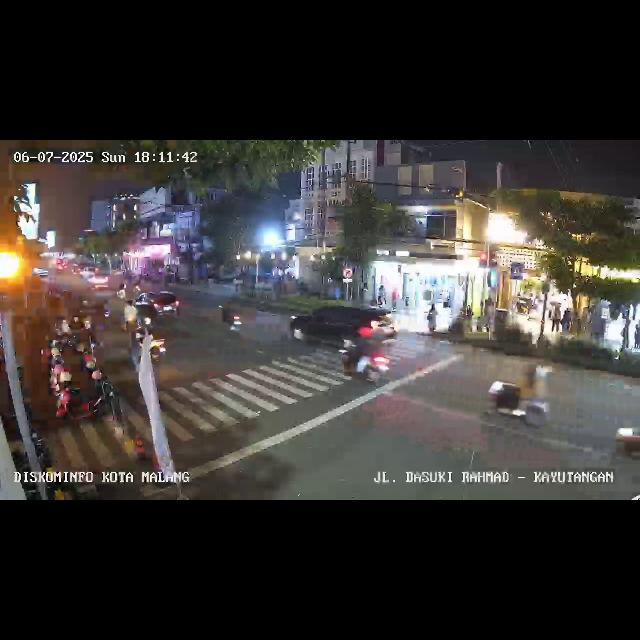car: (289, 304, 397, 360), (135, 290, 181, 322), (82, 274, 110, 292)
motorcycle: (482, 365, 554, 433), (338, 322, 394, 386), (218, 300, 244, 336)
person: (426, 302, 438, 336), (550, 303, 560, 335), (562, 305, 572, 335), (632, 319, 640, 349), (620, 322, 628, 351), (378, 283, 387, 305), (389, 287, 397, 311), (280, 274, 288, 298)
